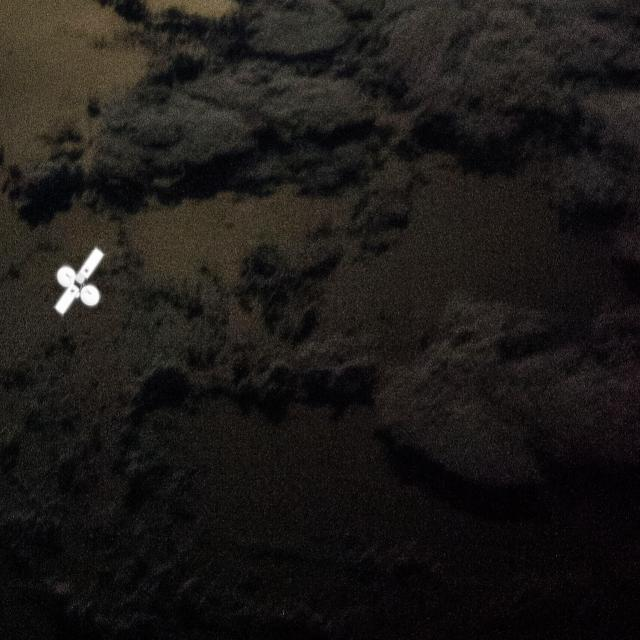satellite: (45, 235, 128, 331)
